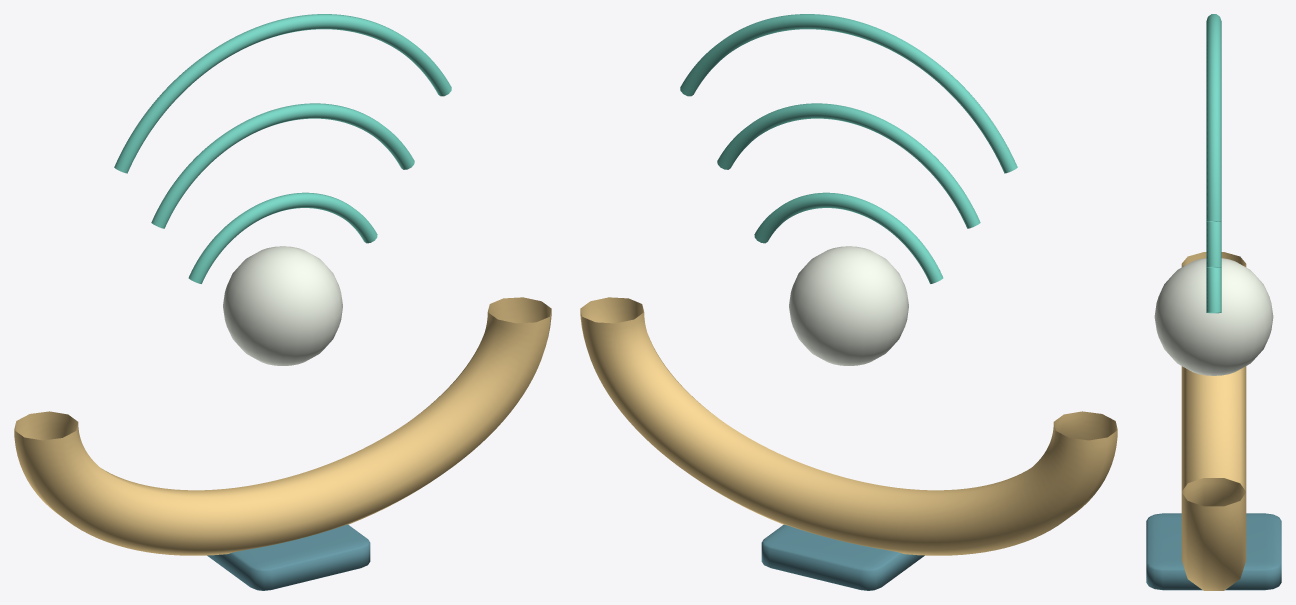
Rendered from humming.glb.
The picture shows the model from 3 angles, left to right: view 1: azimuth 30°, elevation 25°; view 2: azimuth 150°, elevation 25°; view 3: azimuth 270°, elevation 25°; orthographic projection.
Parts seen in each view (by area): view 1: bowl, breath_pearl, sound_ring_2, bowl_foot, sound_ring_1, sound_ring_0; view 2: bowl, breath_pearl, sound_ring_2, bowl_foot, sound_ring_1, sound_ring_0; view 3: bowl, breath_pearl, bowl_foot, sound_ring_2, sound_ring_0, sound_ring_1.
Boxes of the visible parts, x1,y1,x2,y2 form: bowl: [14, 297, 551, 555]; breath_pearl: [223, 246, 342, 365]; sound_ring_2: [114, 14, 451, 173]; bowl_foot: [207, 524, 370, 590]; sound_ring_1: [151, 103, 414, 228]; sound_ring_0: [188, 192, 377, 283]; bowl: [580, 297, 1117, 555]; breath_pearl: [789, 246, 908, 365]; sound_ring_2: [680, 14, 1017, 173]; bowl_foot: [761, 524, 924, 590]; sound_ring_1: [717, 103, 980, 228]; sound_ring_0: [754, 192, 943, 283]; bowl: [1181, 252, 1246, 590]; breath_pearl: [1154, 258, 1273, 375]; bowl_foot: [1146, 513, 1281, 590]; sound_ring_2: [1206, 14, 1221, 221]; sound_ring_0: [1206, 267, 1221, 313]; sound_ring_1: [1206, 221, 1221, 267].
Bounding box in the file's own units: 2.23 × 2.16 × 0.5.
